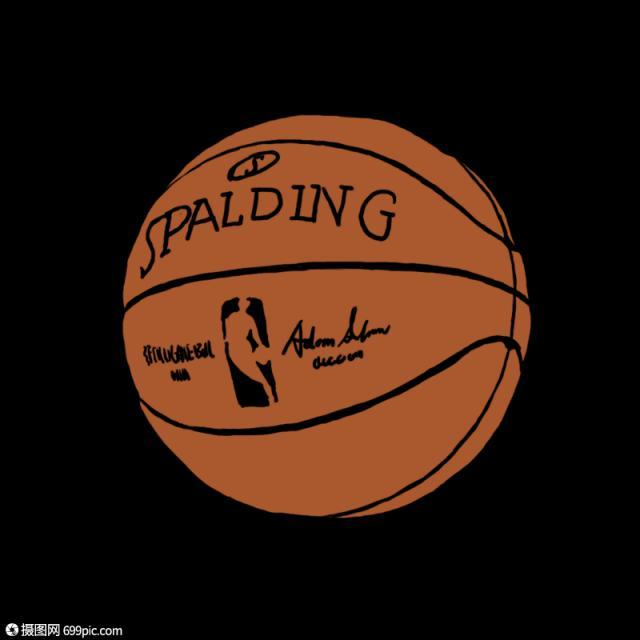rim: (116, 113, 537, 532)
